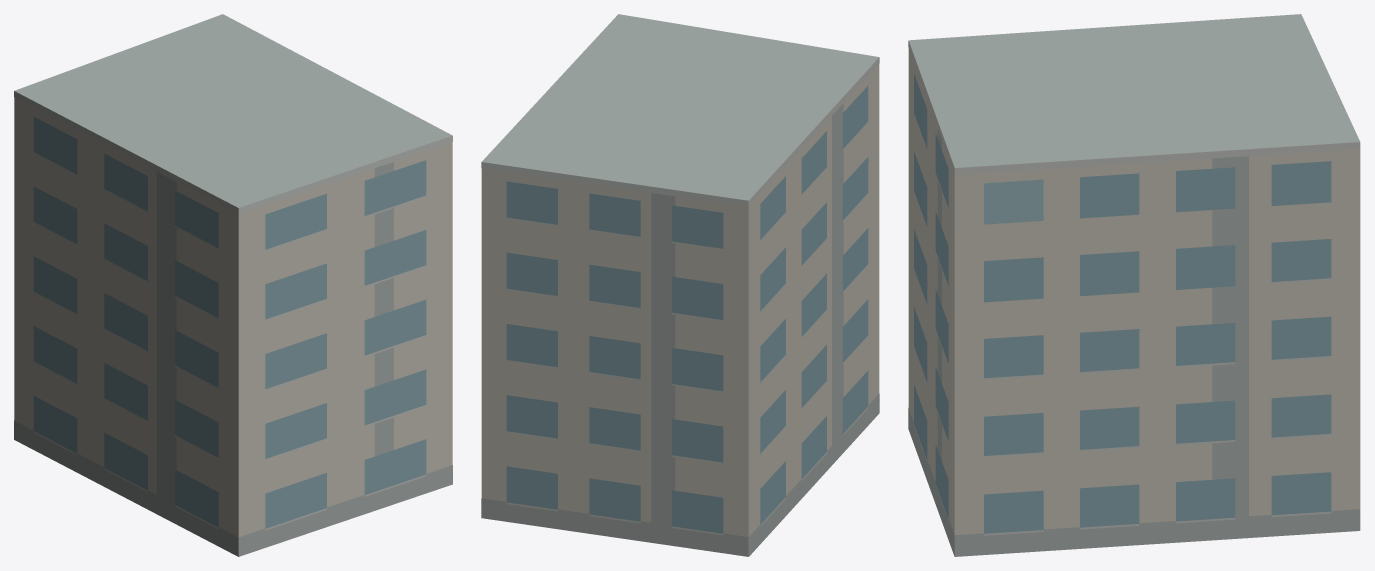
File: survey-upis-32882749.glb
3 renders of one model, left to right at view 1: azimuth 30°, elevation 25°; view 2: azimuth 150°, elevation 25°; view 3: azimuth 270°, elevation 25°, orthographic. The views are drawn at different scales.
Parts seen in each view (by area): view 1: survey-upis-32882749.tmp; view 2: survey-upis-32882749.tmp; view 3: survey-upis-32882749.tmp.
Boxes of the visible parts, box(x1,y1,x2,y2) form: survey-upis-32882749.tmp: box(14, 14, 452, 556); survey-upis-32882749.tmp: box(481, 14, 879, 556); survey-upis-32882749.tmp: box(908, 14, 1360, 556).
Size of the model in its own units: 11.48 by 13.5 by 14.23.
